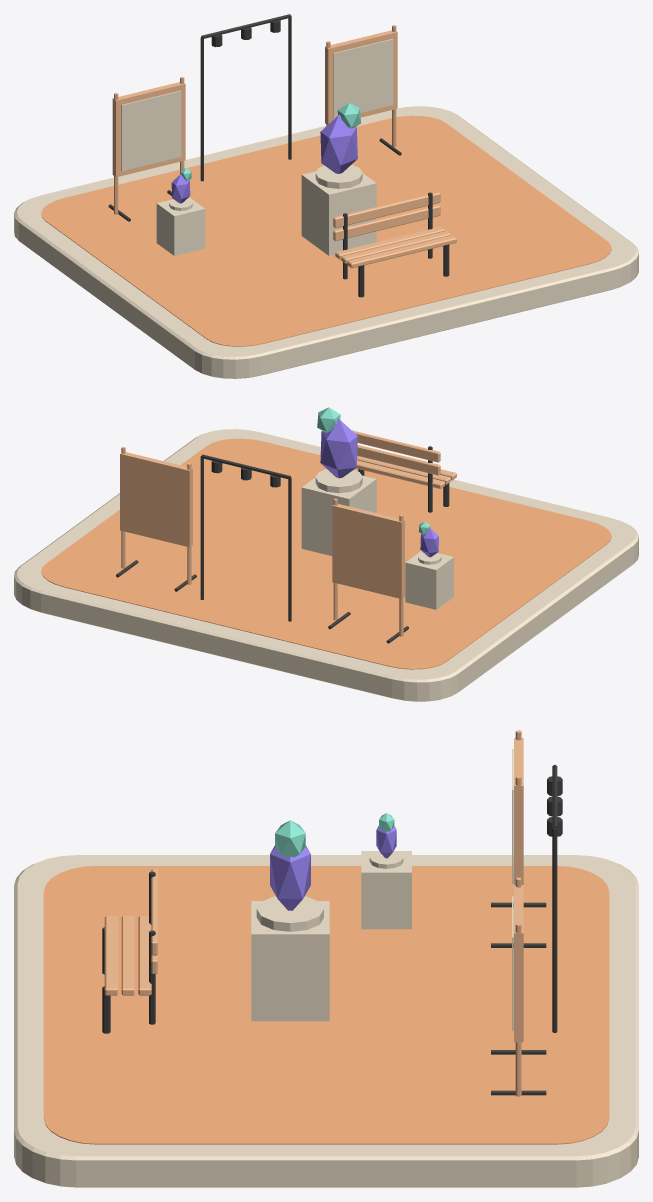
Rendered from room.fbx.
3 views of the same model, one above another, from view 1: azimuth 30°, elevation 25°; view 2: azimuth 150°, elevation 25°; view 3: azimuth 270°, elevation 25° (orthographic). The views are drawn at different scales.
Visible parts, largest first — view 1: COM-02 Floor Surface, COM-01 Rounded Base Direct, Art surface, Display plinth, Art surface.001, Display plinth.001, Frame, Frame.001, Sculpture, Back slat, Back slat.001, Seat slat (+5 smaller); view 2: COM-02 Floor Surface, COM-01 Rounded Base Direct, Frame, Frame.001, Display plinth, Display plinth.001, Sculpture, Back slat.001, Back slat, Plinth, Seat slat.002, Pole (+4 smaller); view 3: COM-02 Floor Surface, COM-01 Rounded Base Direct, Display plinth, Display plinth.001, Sculpture, Plinth, Frame.001, Frame, Pole.001, Seat slat, Seat slat.001, Seat slat.002 (+1 smaller).
Part boxes in pixels (left/top/right/bottom): COM-02 Floor Surface: left=41, top=115, right=611, bottom=346; COM-01 Rounded Base Direct: left=14, top=106, right=638, bottom=378; Art surface: left=121, top=90, right=181, bottom=171; Display plinth: left=301, top=171, right=376, bottom=255; Art surface.001: left=333, top=38, right=393, bottom=118; Display plinth.001: left=156, top=197, right=205, bottom=255; Frame: left=112, top=82, right=185, bottom=177; Frame.001: left=325, top=30, right=397, bottom=124; Sculpture: left=320, top=115, right=357, bottom=173; Back slat: left=333, top=205, right=440, bottom=241; Back slat.001: left=333, top=192, right=440, bottom=228; Seat slat: left=347, top=235, right=456, bottom=268; COM-02 Floor Surface: left=41, top=438, right=611, bottom=669; COM-01 Rounded Base Direct: left=14, top=429, right=638, bottom=701; Frame: left=332, top=504, right=404, bottom=598; Frame.001: left=120, top=452, right=192, bottom=547; Display plinth: left=301, top=475, right=376, bottom=555; Display plinth.001: left=405, top=551, right=453, bottom=609; Sculpture: left=320, top=419, right=357, bottom=478; Back slat.001: left=352, top=430, right=440, bottom=462; Back slat: left=357, top=445, right=440, bottom=475; Plinth: left=315, top=469, right=362, bottom=493; Seat slat.002: left=356, top=460, right=444, bottom=488; Pole: left=288, top=477, right=291, bottom=621; COM-02 Floor Surface: left=43, top=866, right=609, bottom=1144; COM-01 Rounded Base Direct: left=14, top=855, right=638, bottom=1187; Display plinth: left=251, top=901, right=329, bottom=1021; Display plinth.001: left=361, top=851, right=411, bottom=929; Sculpture: left=270, top=845, right=310, bottom=910; Plinth: left=256, top=896, right=323, bottom=931; Frame.001: left=514, top=885, right=523, bottom=1042; Frame: left=514, top=738, right=523, bottom=884; Pole.001: left=552, top=828, right=557, bottom=1032; Seat slat: left=104, top=916, right=117, bottom=995; Seat slat.001: left=121, top=916, right=134, bottom=995; Seat slat.002: left=138, top=916, right=151, bottom=995.
Bounding box in the file's own units: 600 × 222 × 520.
